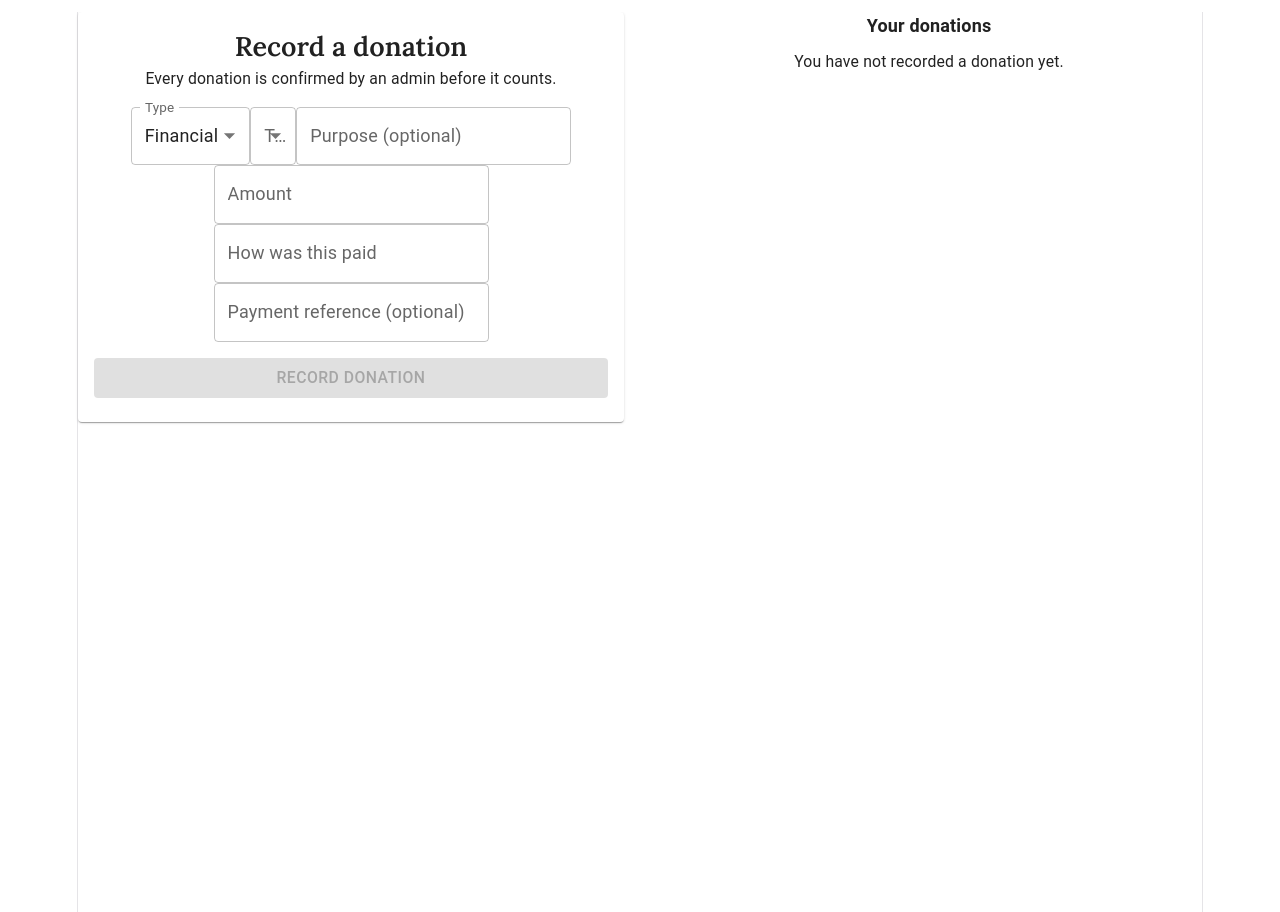
it: DonationEntryPage › switches to material fields and lets an item be added
What coordinates should you click on to do the following:
click the dropdown named "type"
I would click on:
 (182, 136)
Its box is x1=145 y1=125 x2=218 y2=146.
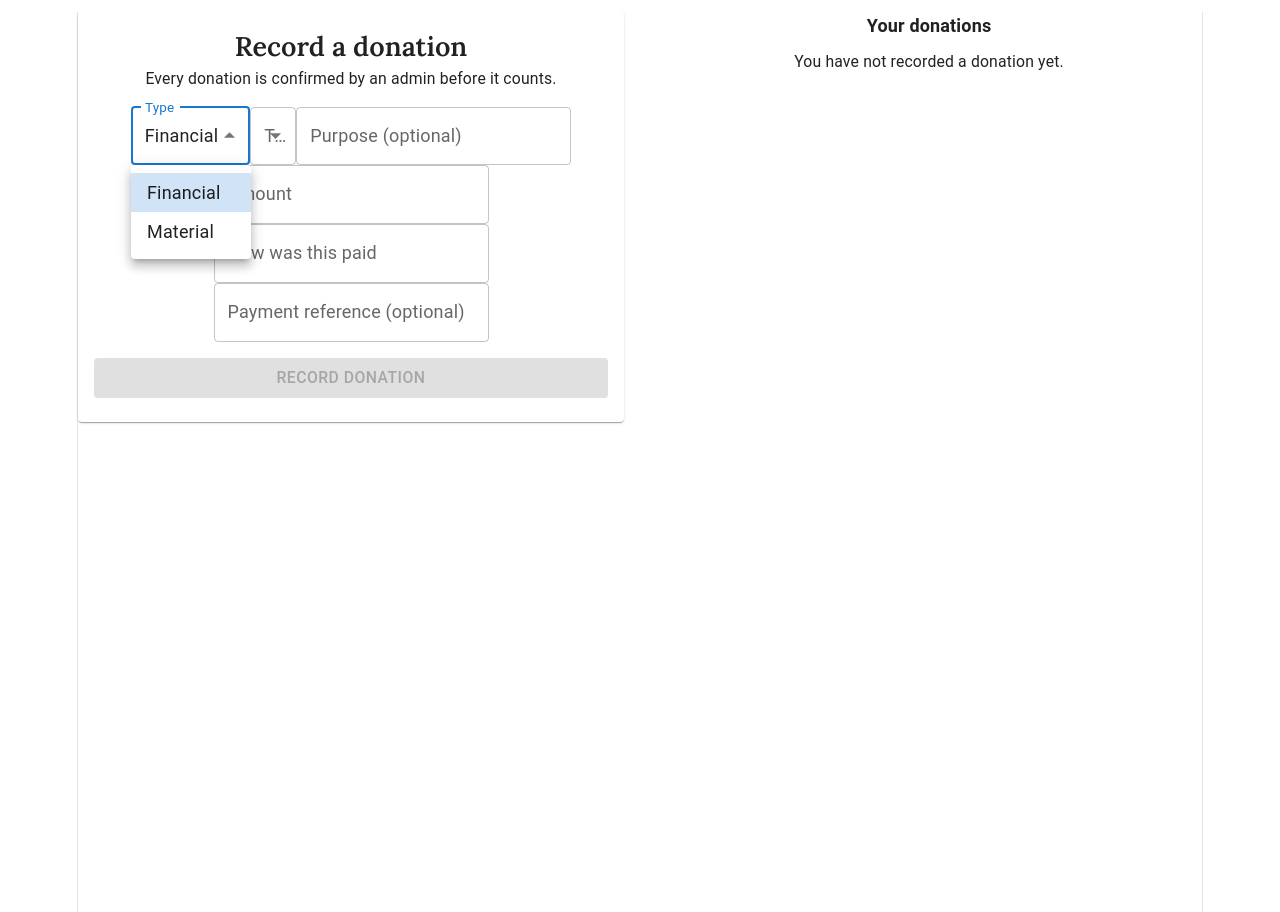
What coordinates should you click on to do the following:
click the option "Material"
I would click on:
 (180, 232)
Its box is x1=147 y1=221 x2=214 y2=242.
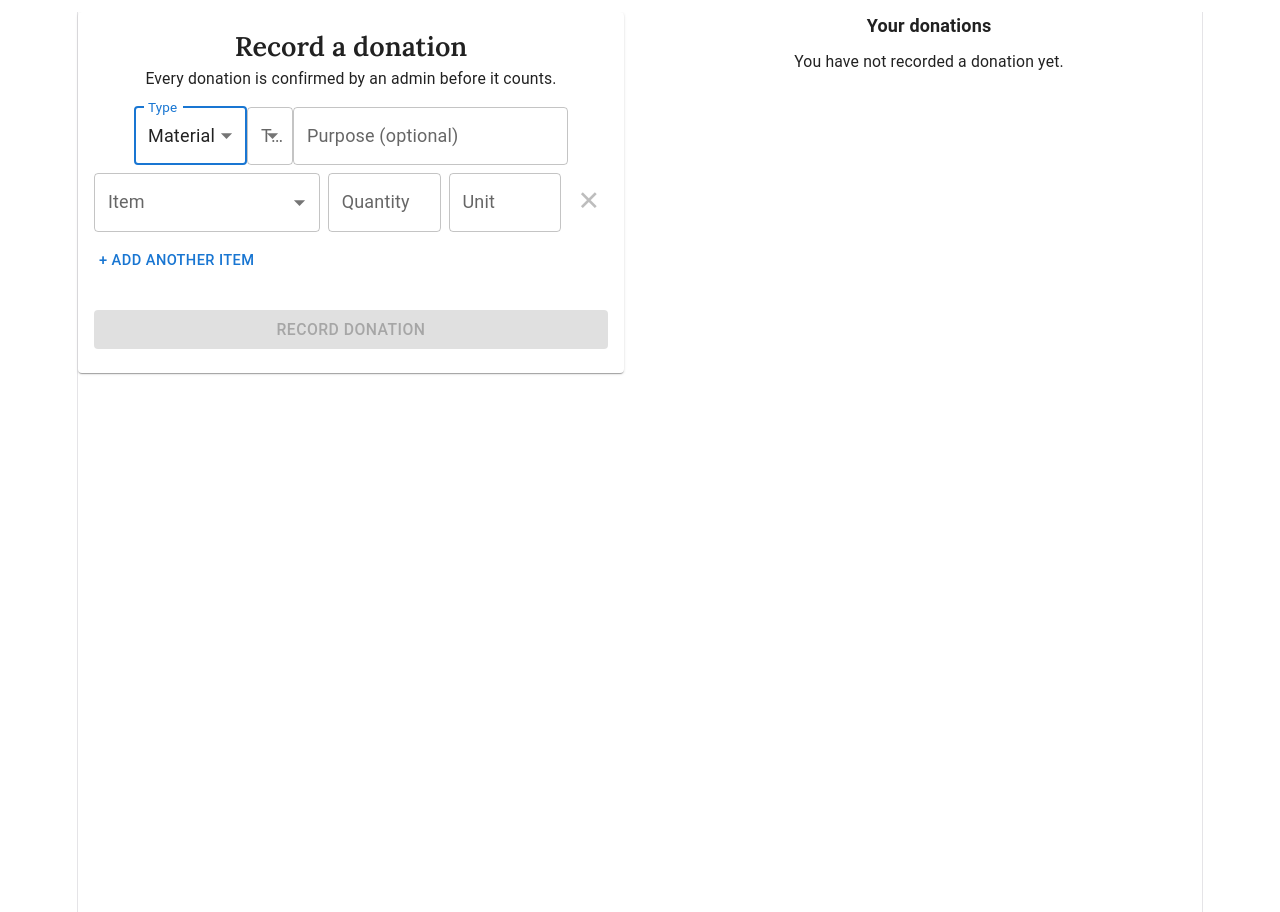
Expected: the dropdown named "item" in the row of "Quantity" is shown, x1=94 y1=173 x2=320 y2=232
Expected: the label labelled "Amount" is gone
